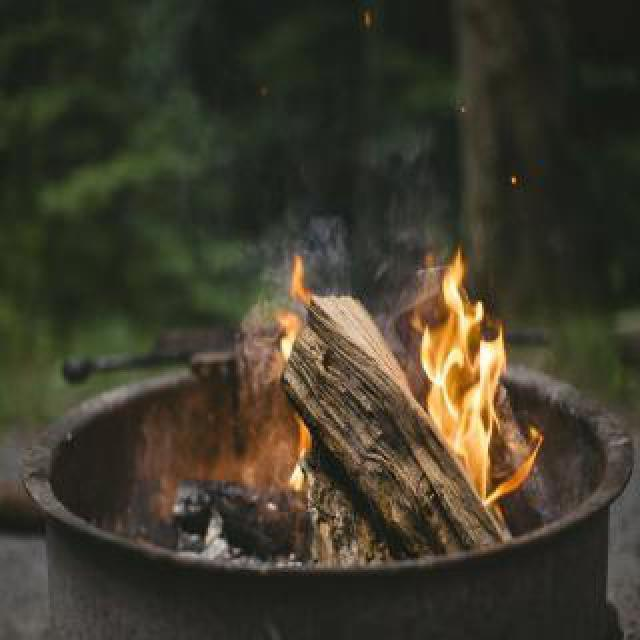Fire: (416, 256, 530, 506), (272, 240, 324, 488)
